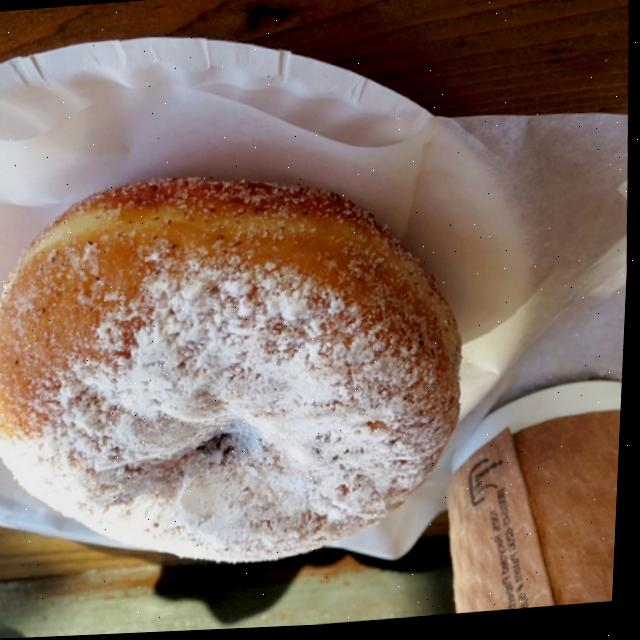炸货点心: (0, 156, 490, 593)
